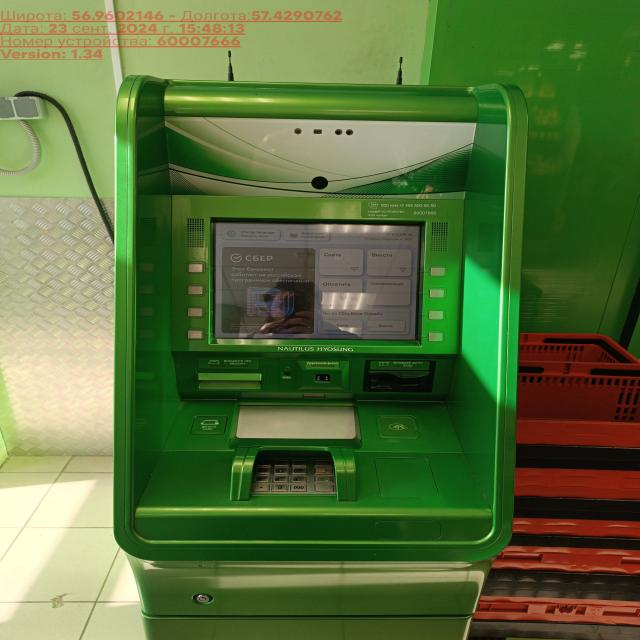bank: (108, 70, 530, 640)
